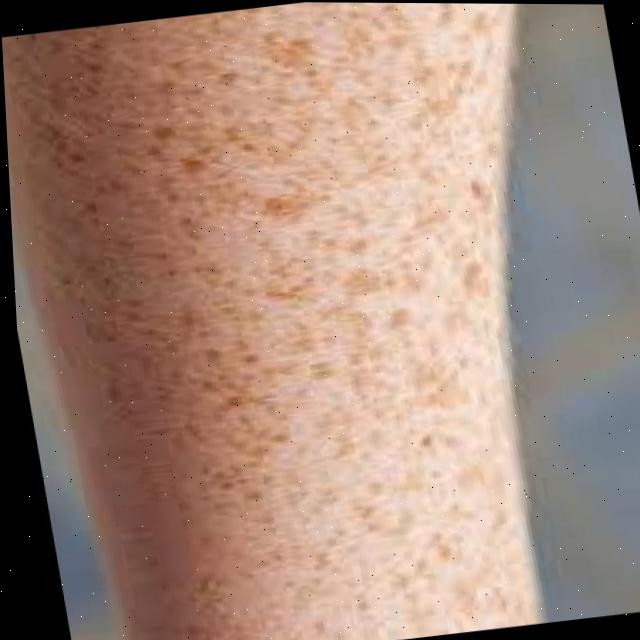Eczema: (91, 1, 584, 615)
